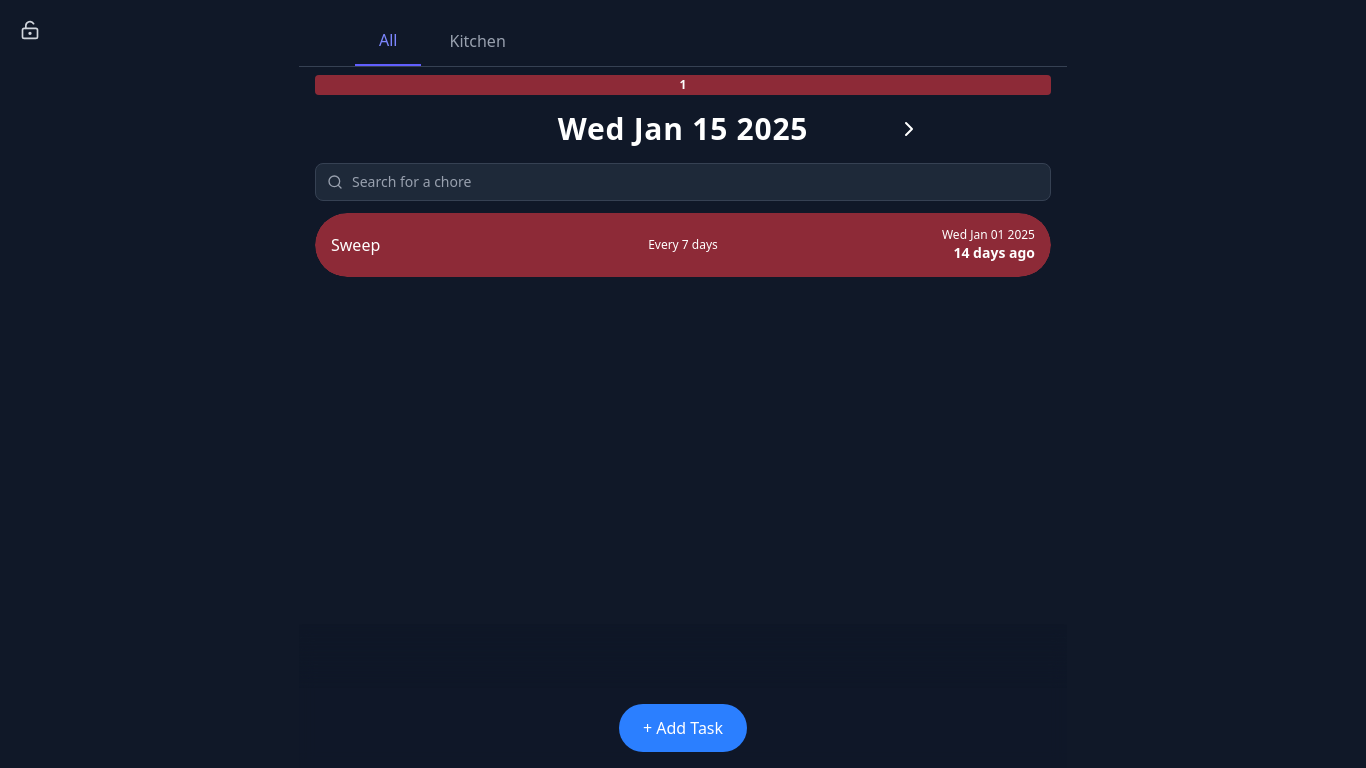
screen blank overlay wiring › swiping still works when not blanked
Expected: the text "Sweep" is shown, [331,234,380,256]
Press the mouse on the element with test id "chore-bar": (683, 245) [315,213,1051,277]
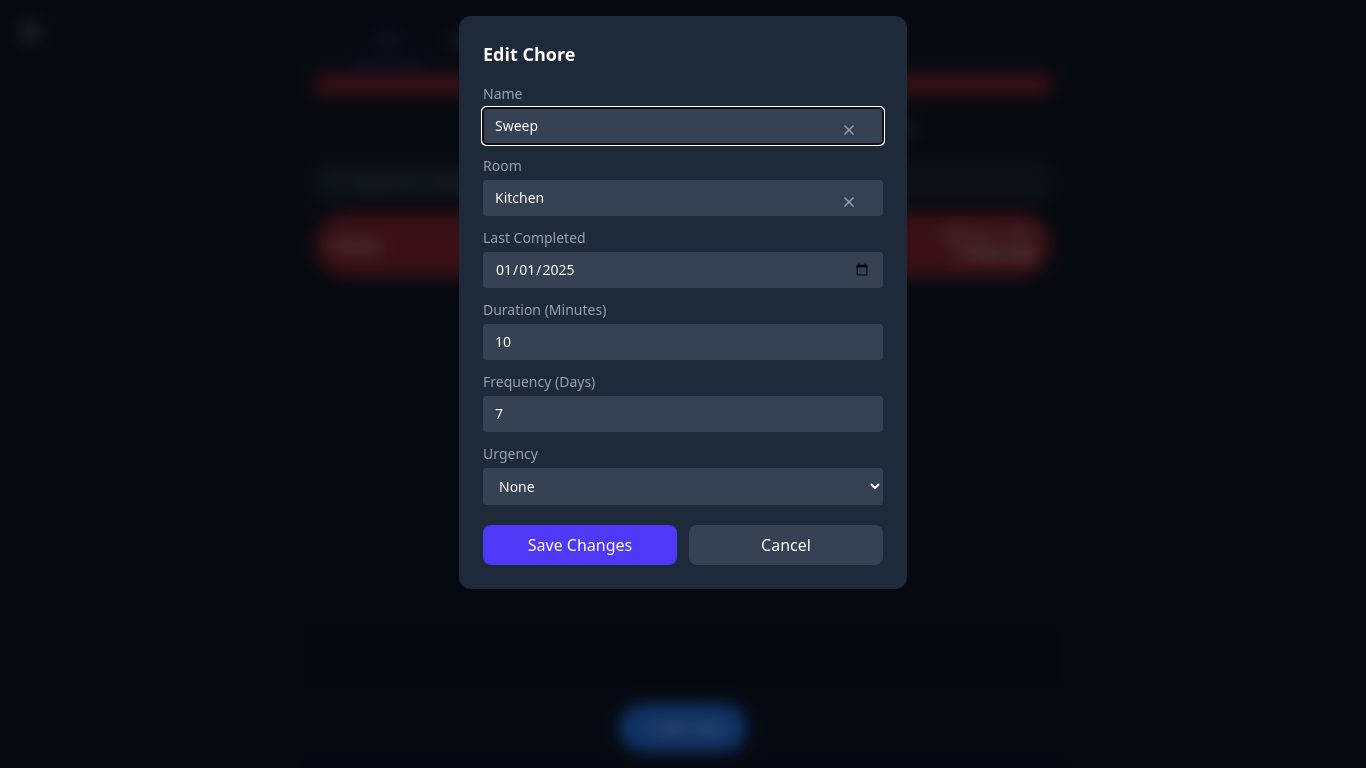
Expected: the heading "Edit Chore" is shown, [483,42,575,66]
